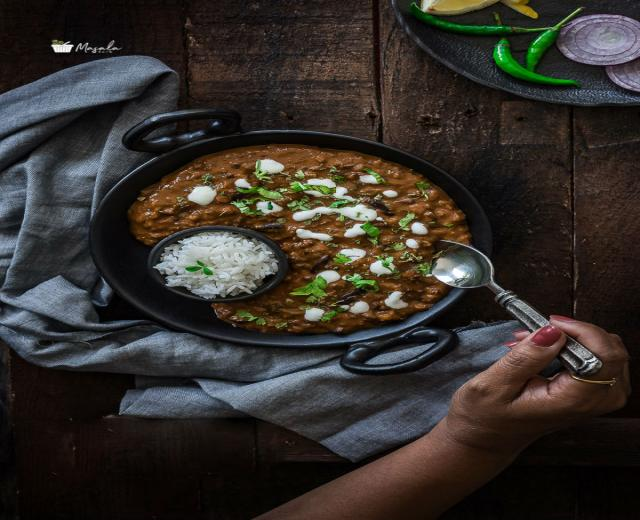dal makhni: (87, 114, 490, 344), (145, 225, 287, 301)
